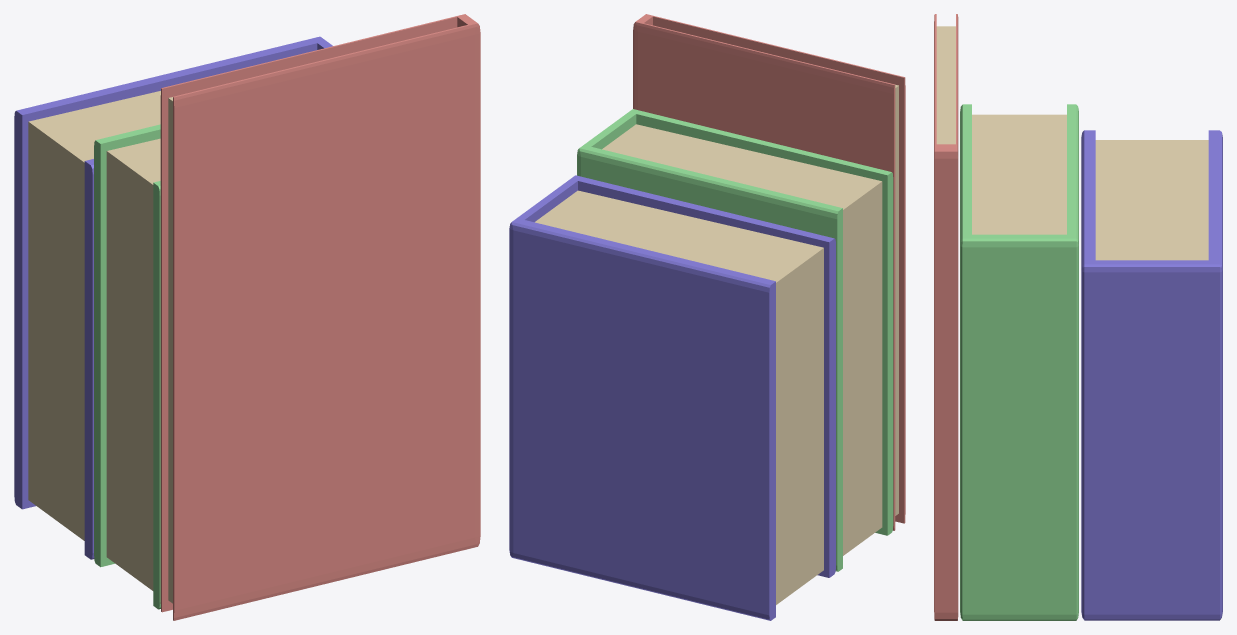
File: Books2.fbx
3 views of the same model, side by side, from view 1: azimuth 30°, elevation 25°; view 2: azimuth 150°, elevation 25°; view 3: azimuth 270°, elevation 25° (orthographic). The views are drawn at different scales.
Visible parts, largest first — view 1: Cube.004; view 2: Cube.004; view 3: Cube.004.
Boxes of the visible parts, bbox=[...] form: Cube.004: bbox=[14, 14, 480, 620]; Cube.004: bbox=[509, 14, 905, 620]; Cube.004: bbox=[934, 14, 1222, 620].
Bounding box in the file's own units: 107 × 175 × 96.77.
